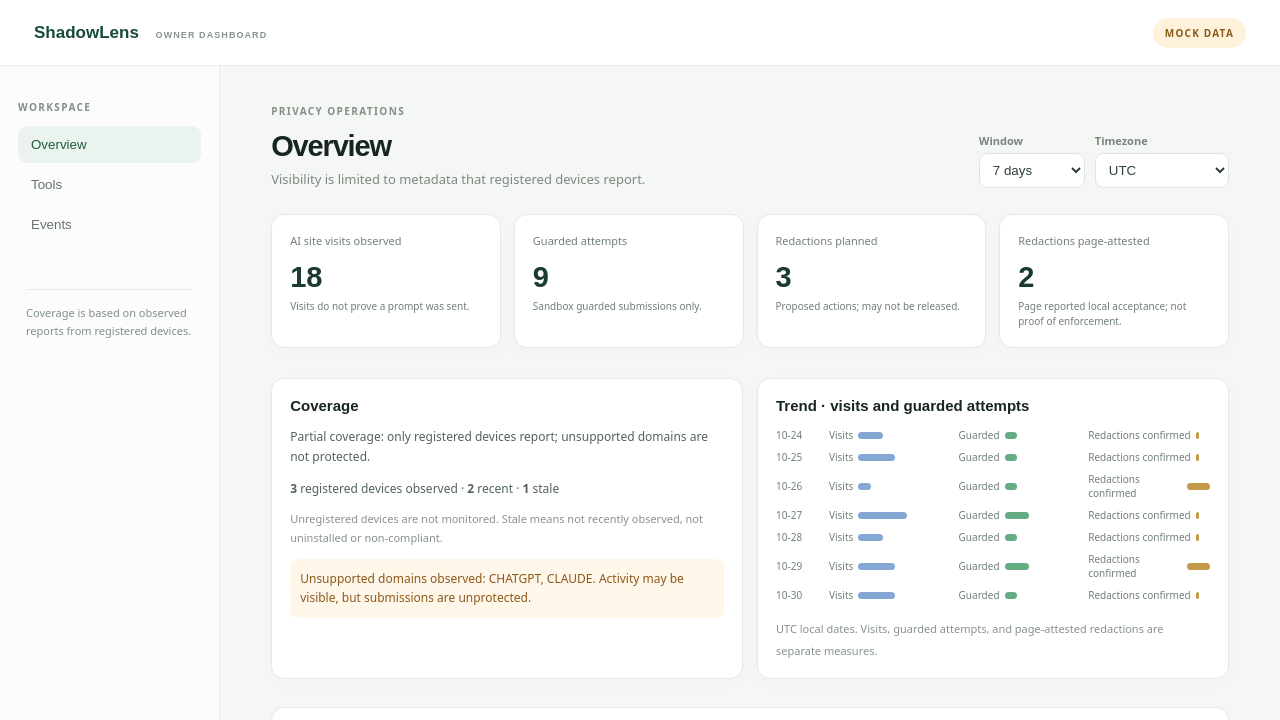
Test case: dashboard mock experience › explains stale devices and preserves NOT_EVALUATED in event rows
The width and height of the screenshot is (1280, 720).
Expected: the text "Stale means not recently observed" is shown, [290, 511, 703, 544]
Click the button "Events" at (110, 224), box [18, 206, 201, 243]
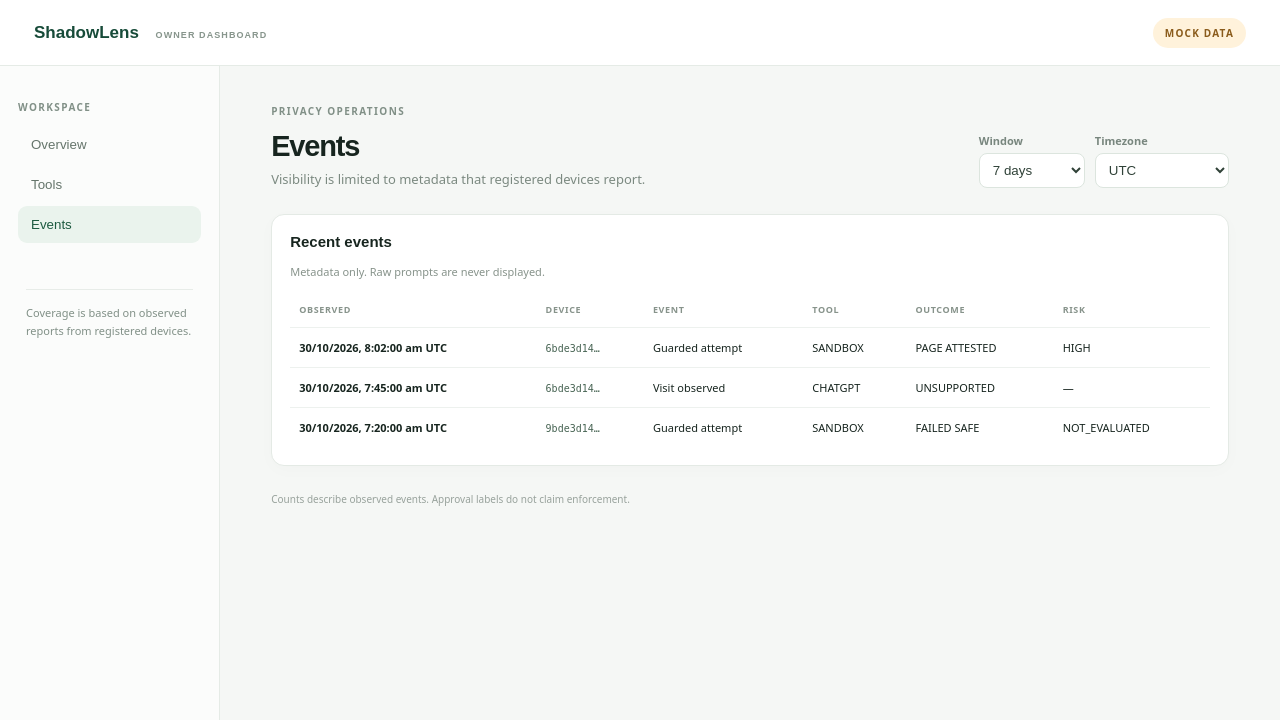
Expected: the text "NOT_EVALUATED" is shown, [1054, 408, 1210, 447]
